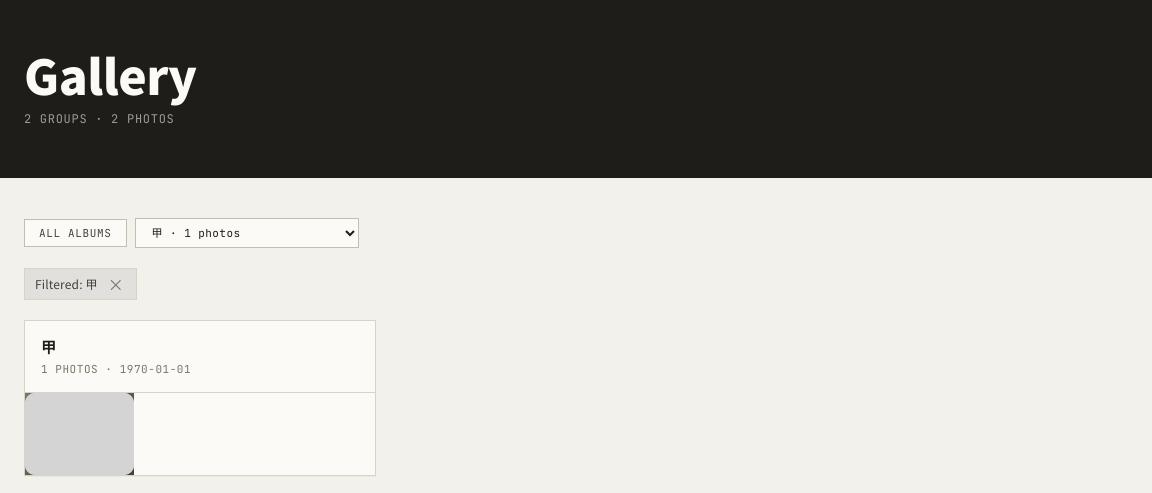
Scenario: <Gallery /> › clear button on active-filter pill restores 全部
Expected: the button "甲" is shown, [41, 337, 56, 356]
Expected: the text "相册" is not shown
Click the button named "Clear filter" at (116, 284), box [106, 276, 126, 292]
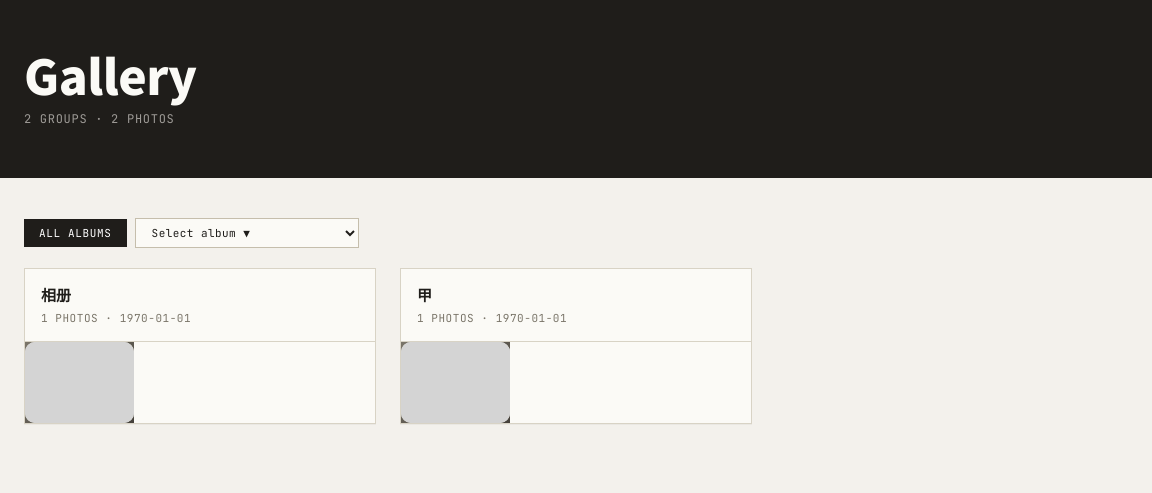
Expected: the button "相册" is shown, [41, 285, 71, 305]
